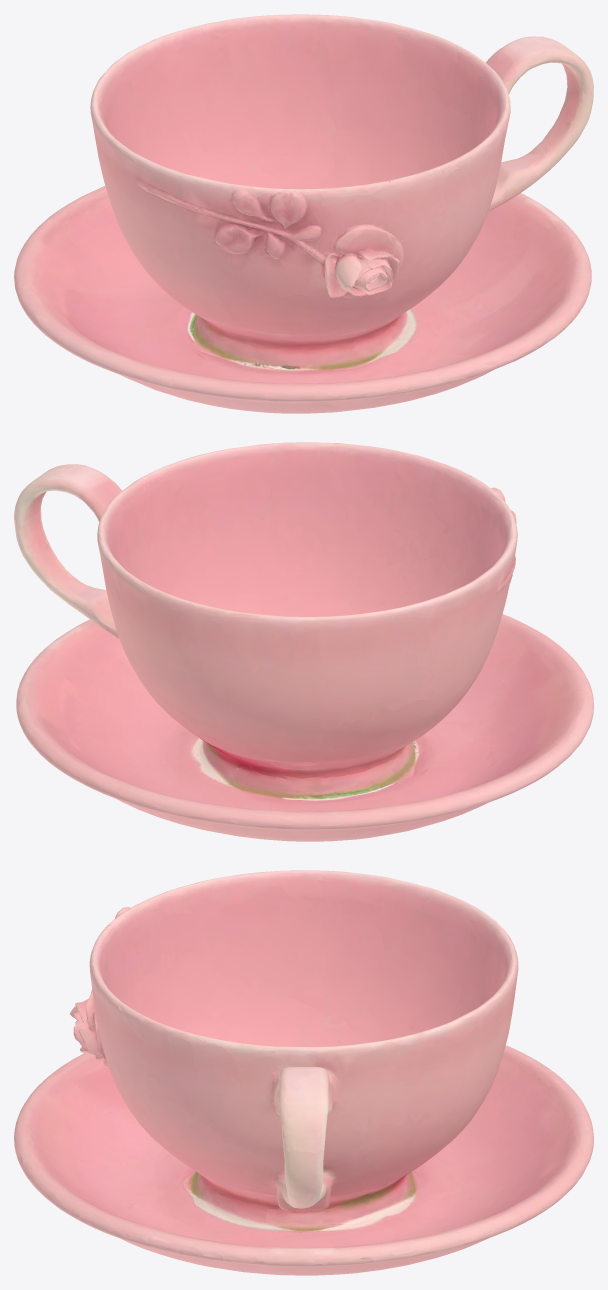
The model's file is kitchen-teacup-06.glb.
3 views of the same model, one above another, from view 1: azimuth 30°, elevation 25°; view 2: azimuth 150°, elevation 25°; view 3: azimuth 270°, elevation 25° (orthographic).
Size of the model in its own units: 1.9 by 0.8621 by 1.75.
1 material, 1 textured.
